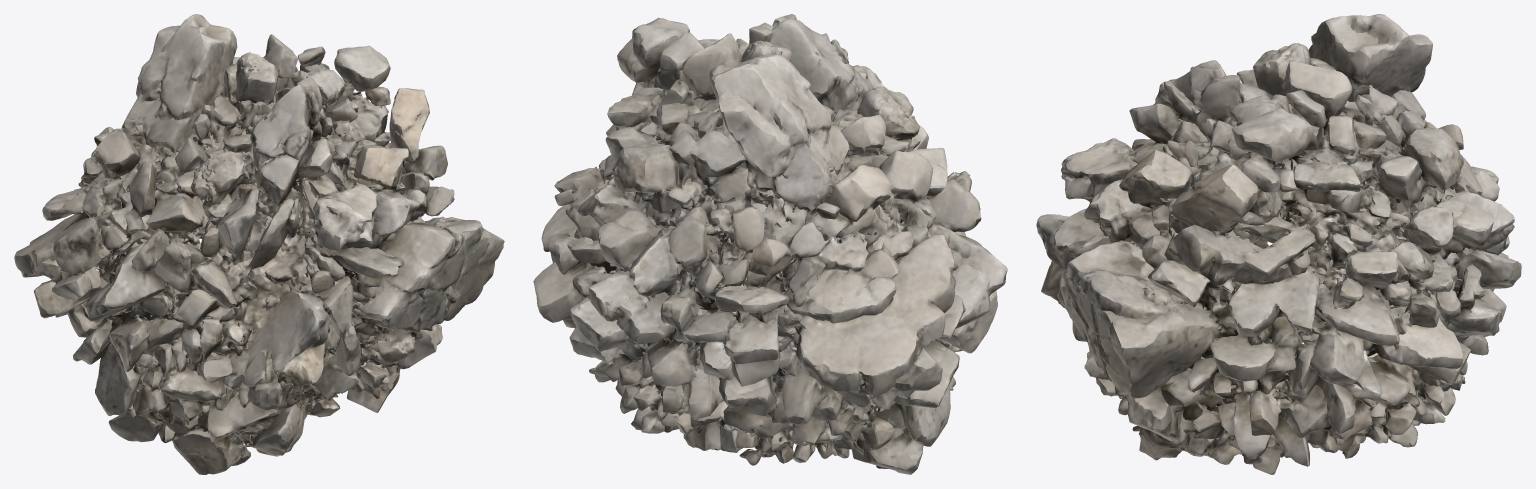
The model's file is cave-talus-v12.glb.
3 views of the same model, side by side, from view 1: azimuth 30°, elevation 25°; view 2: azimuth 150°, elevation 25°; view 3: azimuth 270°, elevation 25° (orthographic). The views are drawn at different scales.
Parts seen in each view (by area): view 1: geometry_0; view 2: geometry_0; view 3: geometry_0.
Boxes of the visible parts, x1,y1,x2,y2 form: geometry_0: (14, 14, 504, 474); geometry_0: (533, 14, 1007, 474); geometry_0: (1036, 14, 1521, 474).
Bounding box in the file's own units: 0.35 × 0.3535 × 0.3477.
Materials: 1 (1 with a texture image).
